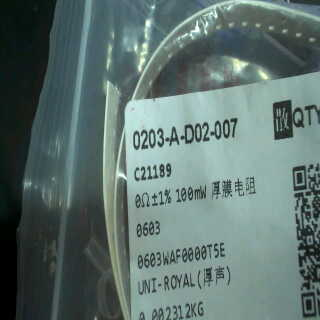0R: (132, 181, 210, 242)
